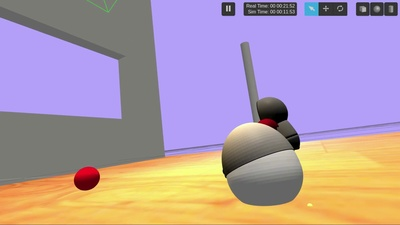mira_robot: (223, 122, 304, 206)
